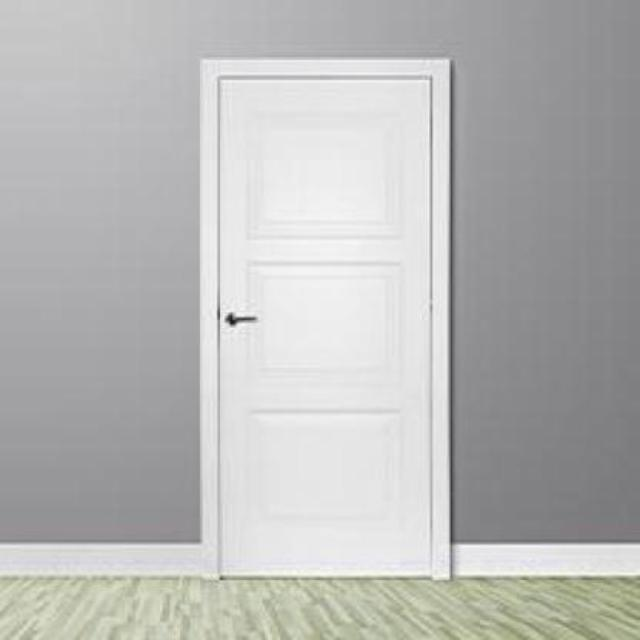door: (209, 58, 447, 580)
